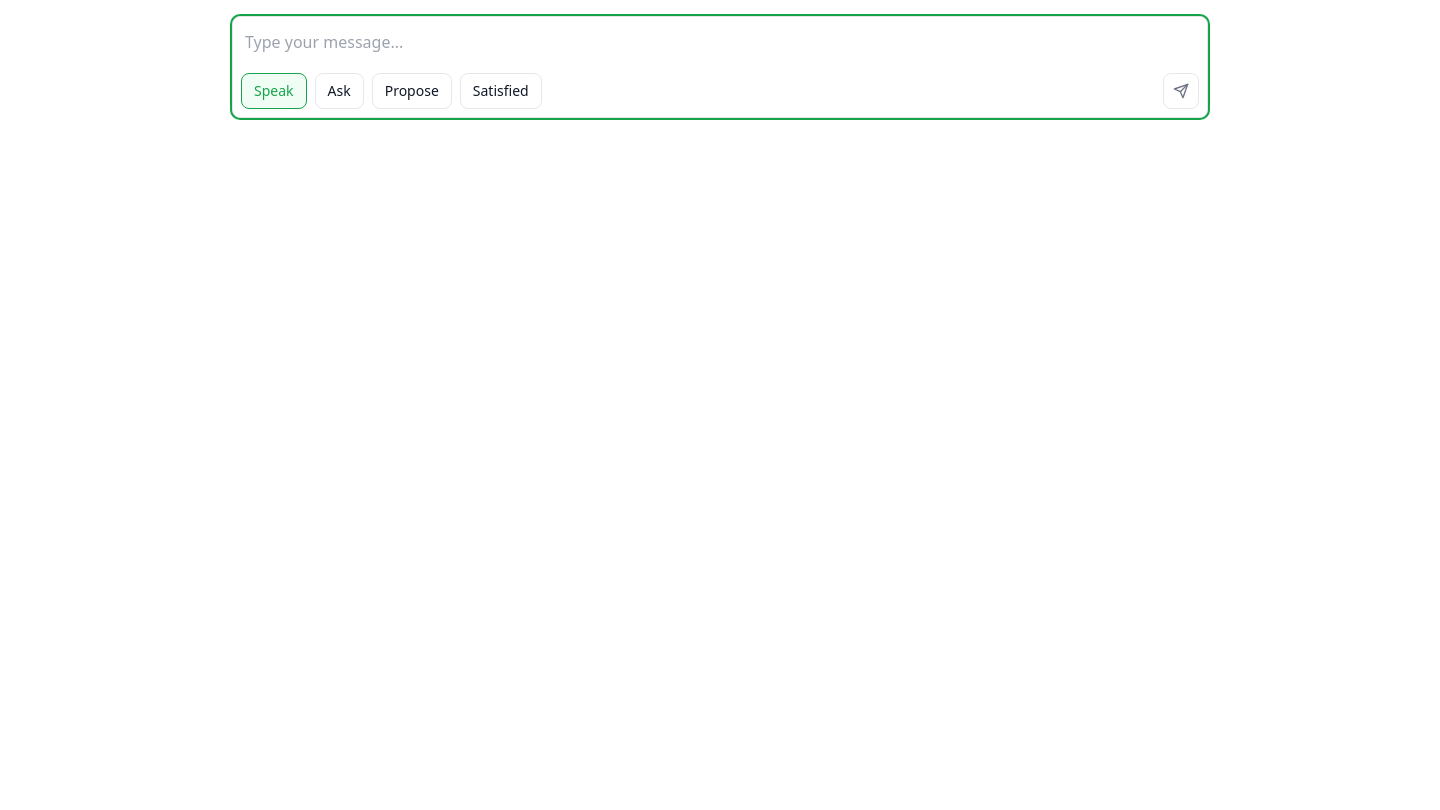
it: UserInputSection speaking turn › shows the model picker in the AI refine dialog and switches models
Click the button "Propose": {"x": 412, "y": 91} [372,73,452,109]
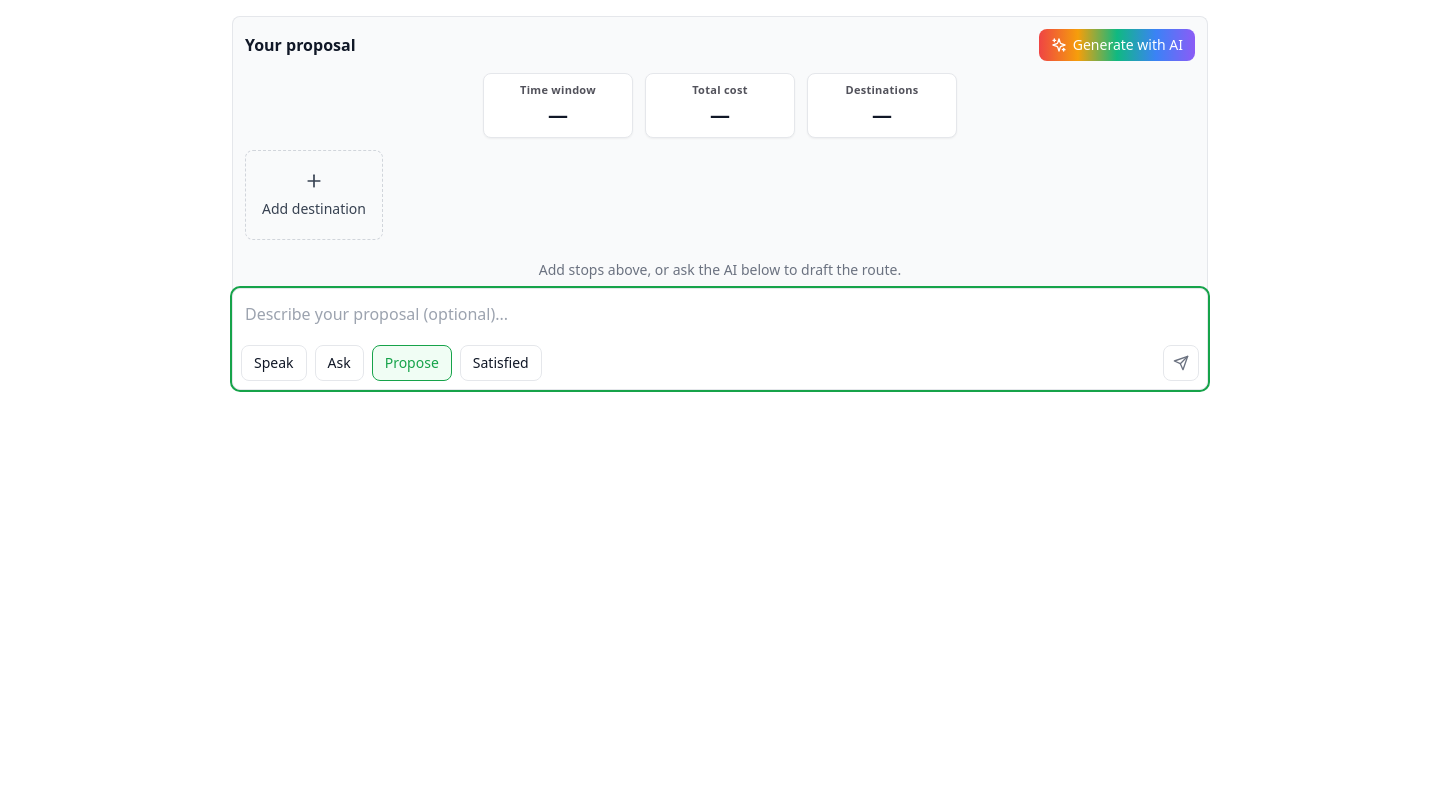
Click the button "Generate with AI": {"x": 1117, "y": 45} [1039,29,1195,61]
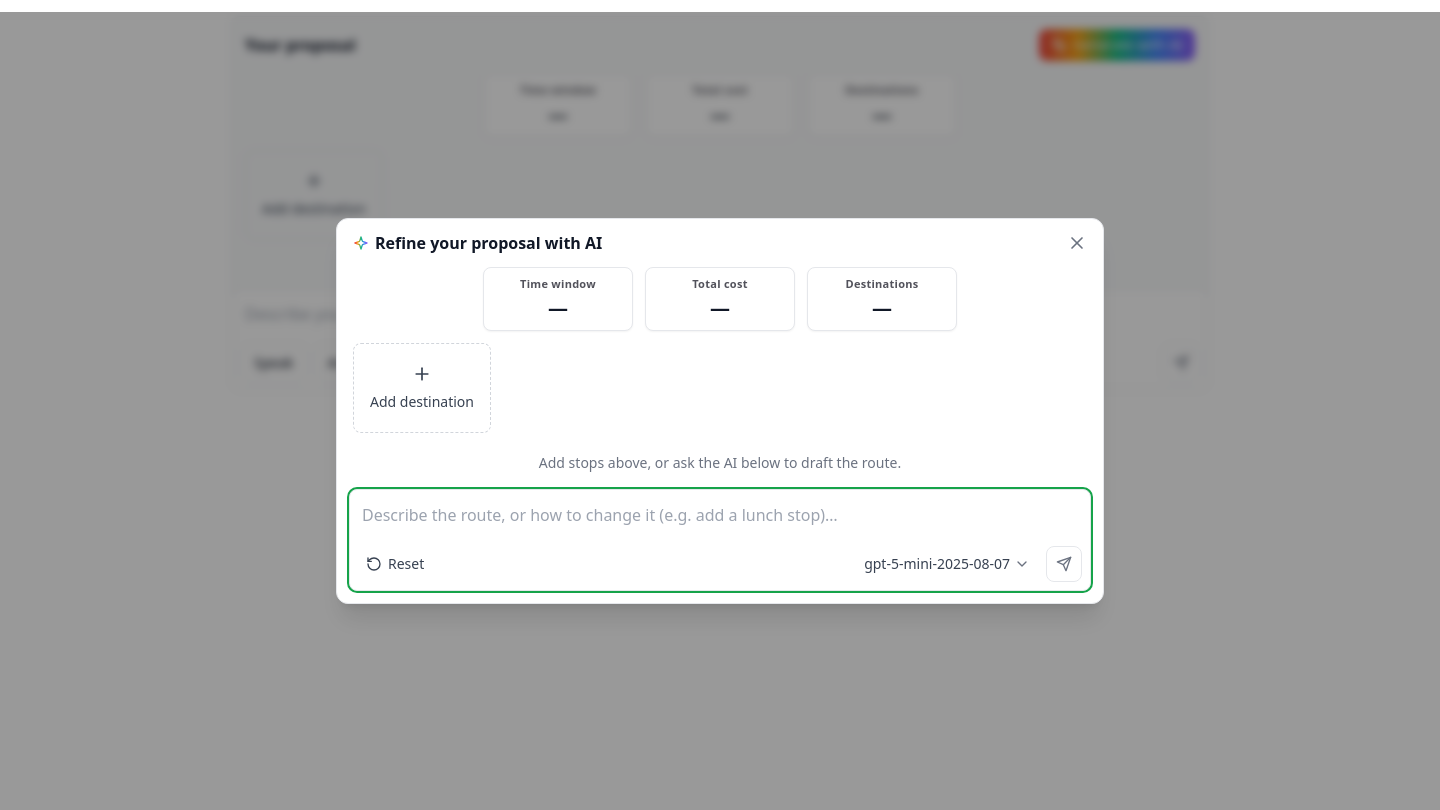
Result: the button titled "openai/gpt-5-mini-2025-08-07" is shown
Click the button titled "openai/gpt-5-mini-2025-08-07": {"x": 947, "y": 564} [856,546,1038,582]
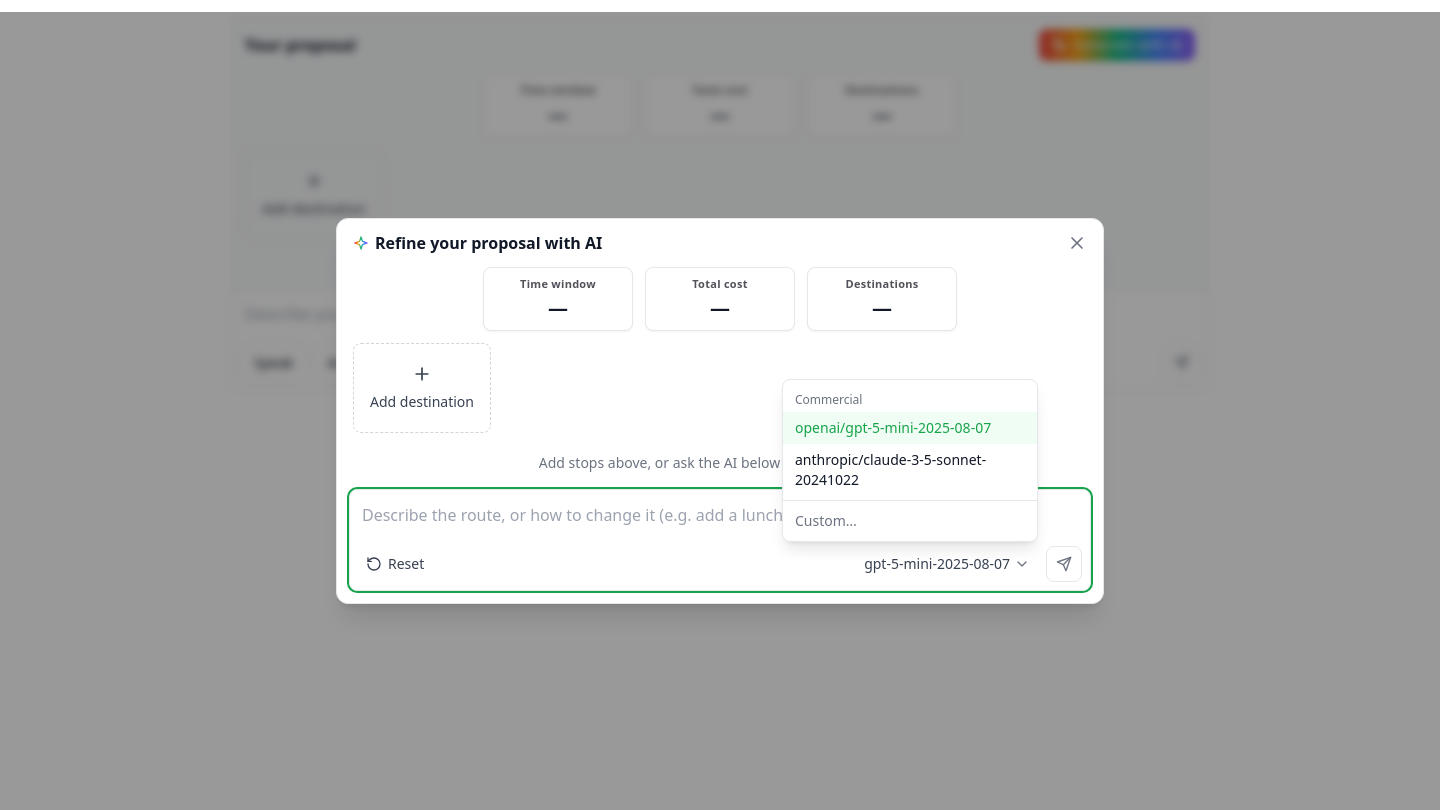
Result: the text "Commercial" is shown at [795,391,862,408]
Result: the button "Custom…" is shown at [783,505,1037,537]
Click the button "anthropic/claude-3-5-sonnet-20241022": {"x": 910, "y": 470} [783,444,1037,496]
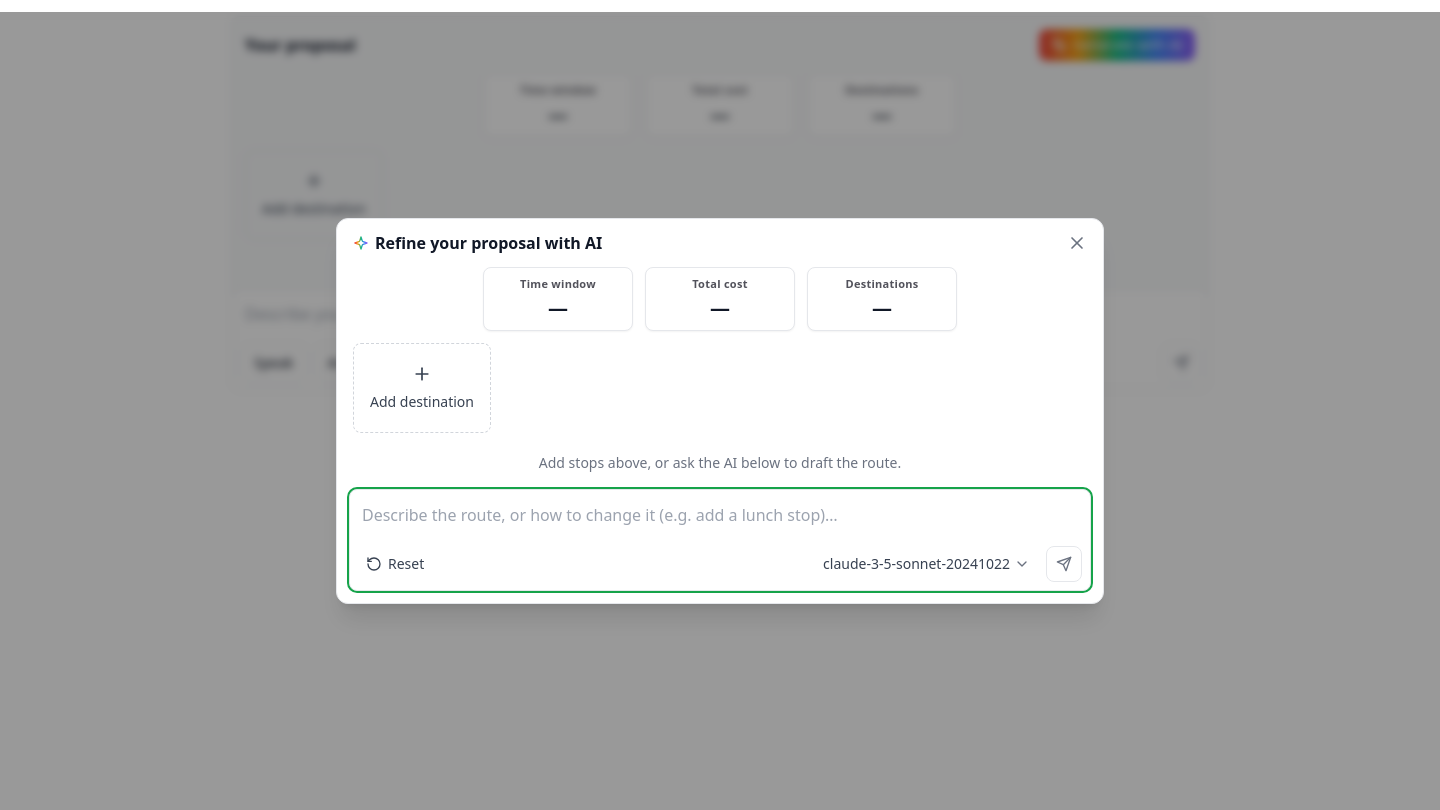
Replace the text in the text box with placeholder "Describe the route, or how to change it (e.g. add a lunch stop)…" with "Add a lunch stop": {"x": 720, "y": 518} [350,490,1090,546]
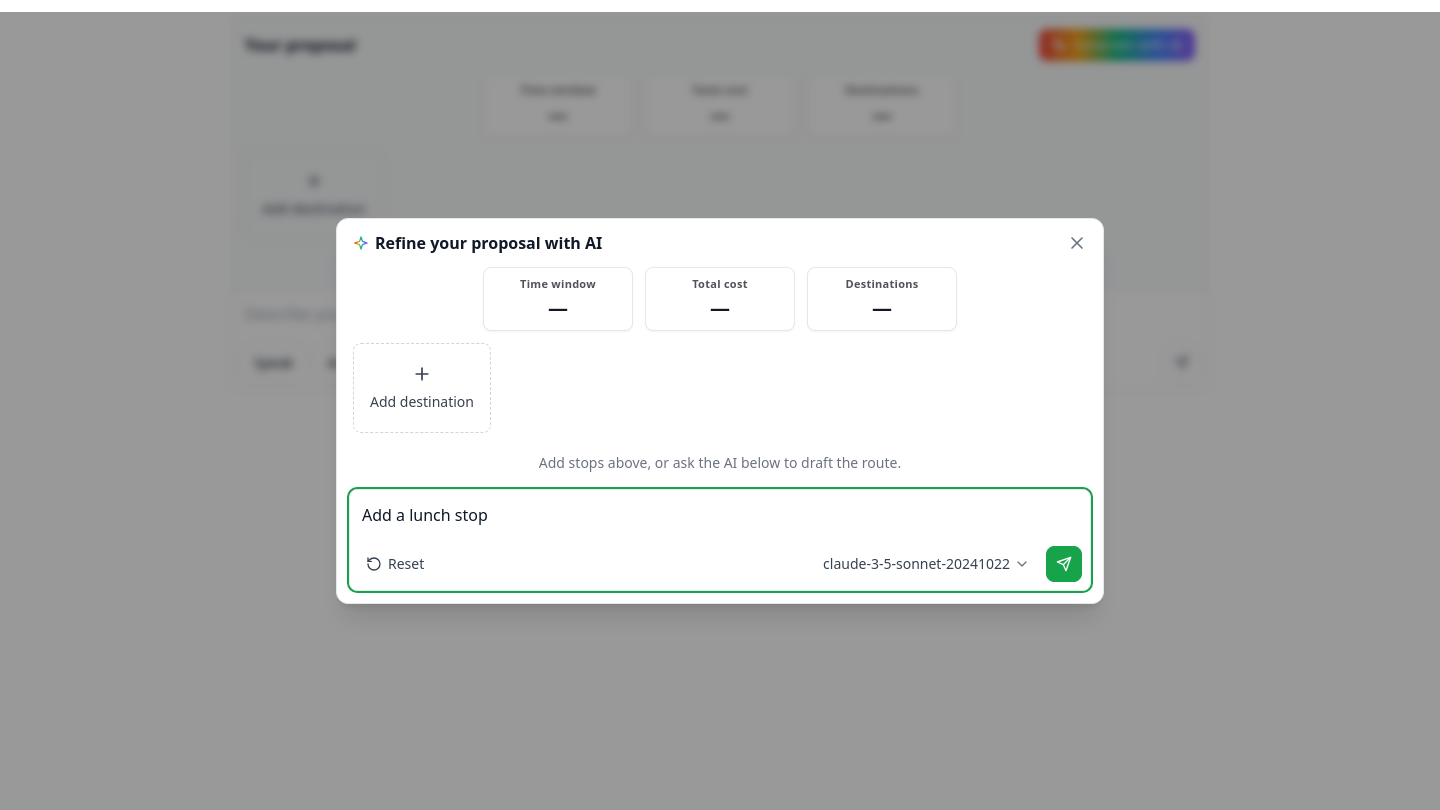
Click the button named "Send": {"x": 1064, "y": 564} [1046,546,1082,582]
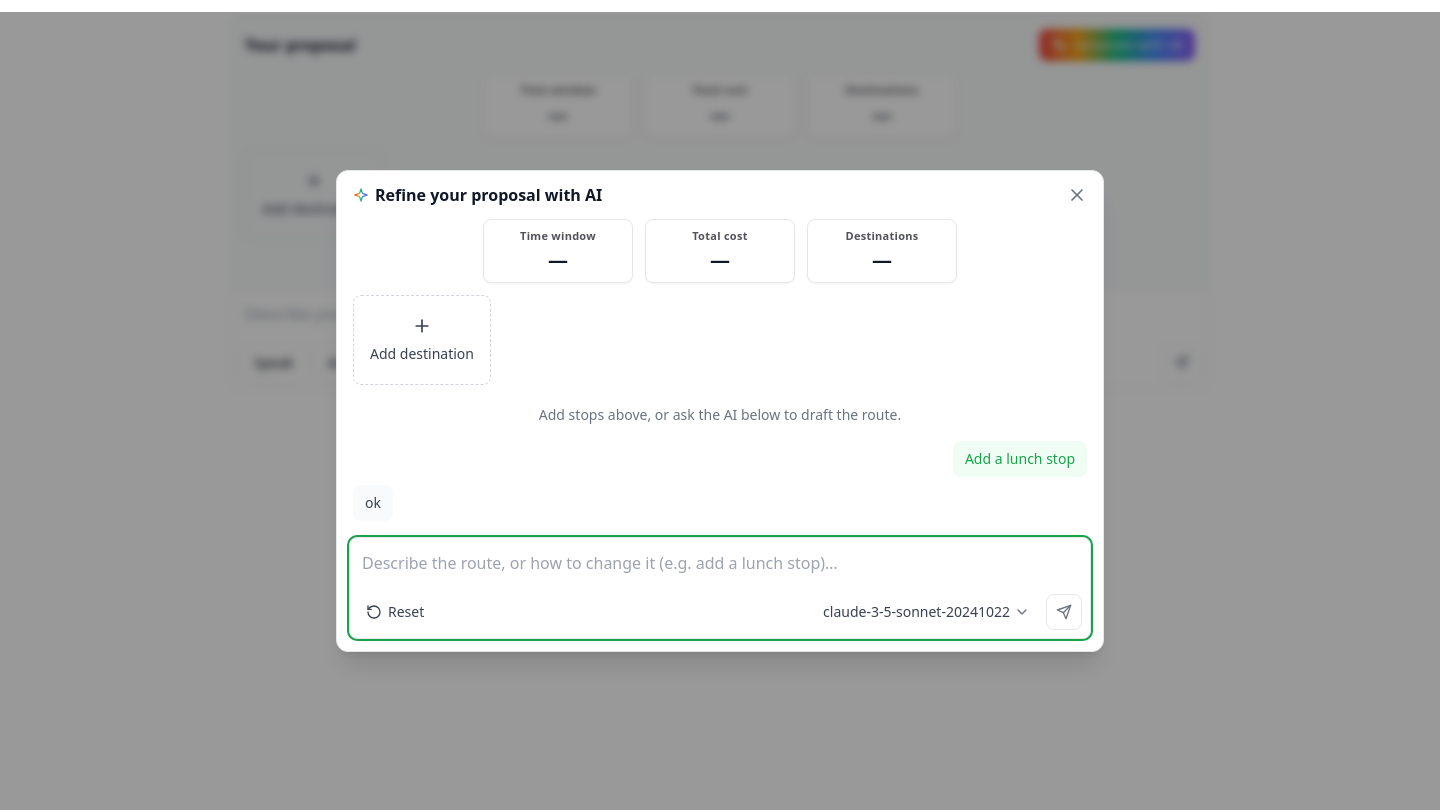
Result: the text "ok" is shown at [353,485,393,521]
